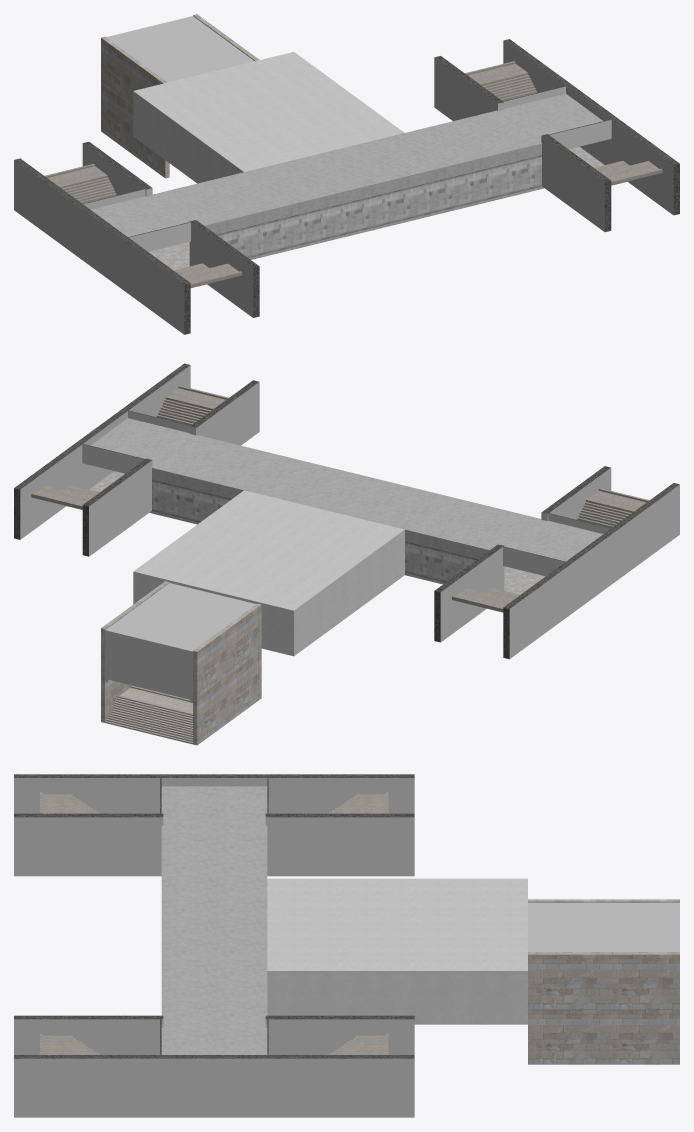
Rendered from Subway03_CorridorInter.FBX.
3 views of the same model, one above another, from view 1: azimuth 30°, elevation 25°; view 2: azimuth 150°, elevation 25°; view 3: azimuth 270°, elevation 25° (orthographic). The views are drawn at different scales.
Parts seen in each view (by area): view 1: Subway03_aStairWall, Subway03_Inter, Subway03_CorridorCeil0102, Subway03_CorridorWall, Subway03_aStair, Subway03StairUp, Subway03_CorridorCeil01, Subway03StairWall01, Subway03_CorridorFloor; view 2: Subway03_aStairWall, Subway03_Inter, Subway03_CorridorCeil0102, Subway03StairUp, Subway03StairWall01, Subway03_aStair, Subway03_CorridorCeil01, Subway03_CorridorWall, Subway03Stair, Subway03_CorridorFloor; view 3: Subway03_aStairWall, Subway03_Inter, Subway03_CorridorCeil0102, Subway03StairWall01, Subway03StairUp, Subway03_CorridorCeil01, Subway03_aStair.
Boxes of the visible parts, x1,y1,x2,y2 form: Subway03_aStairWall: [14, 39, 679, 334]; Subway03_Inter: [133, 52, 404, 183]; Subway03_CorridorCeil0102: [152, 110, 541, 234]; Subway03_CorridorWall: [217, 155, 541, 257]; Subway03_aStair: [44, 61, 662, 287]; Subway03StairUp: [106, 16, 254, 82]; Subway03_CorridorCeil01: [91, 93, 603, 236]; Subway03StairWall01: [101, 14, 259, 178]; Subway03_CorridorFloor: [148, 146, 604, 270]; Subway03_aStairWall: [14, 363, 679, 659]; Subway03_Inter: [133, 490, 404, 656]; Subway03_CorridorCeil0102: [152, 435, 541, 558]; Subway03StairUp: [105, 583, 256, 702]; Subway03StairWall01: [101, 581, 261, 745]; Subway03_aStair: [31, 385, 649, 612]; Subway03_CorridorCeil01: [91, 418, 603, 561]; Subway03_CorridorWall: [152, 479, 477, 582]; Subway03Stair: [105, 685, 192, 744]; Subway03_CorridorFloor: [89, 471, 545, 594]; Subway03_aStairWall: [14, 774, 414, 1117]; Subway03_Inter: [267, 878, 527, 1024]; Subway03_CorridorCeil0102: [161, 825, 267, 1023]; Subway03StairWall01: [528, 899, 679, 1064]; Subway03StairUp: [528, 902, 679, 951]; Subway03_CorridorCeil01: [161, 786, 267, 1054]; Subway03_aStair: [40, 792, 388, 1054].
Size of the model in its own units: 78938 by 15616 by 78106.
